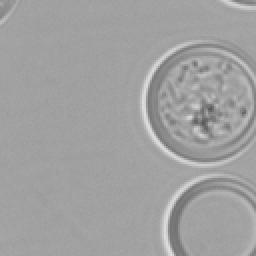picoshell: (140, 40, 254, 166), (160, 174, 254, 254), (220, 0, 254, 8)
